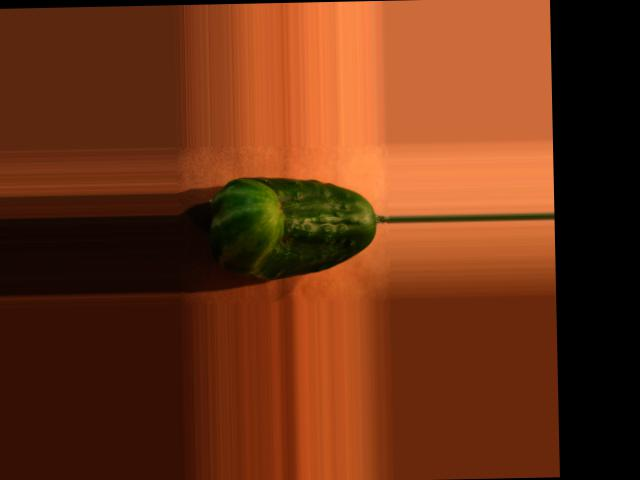cucumber: (209, 173, 378, 279)
